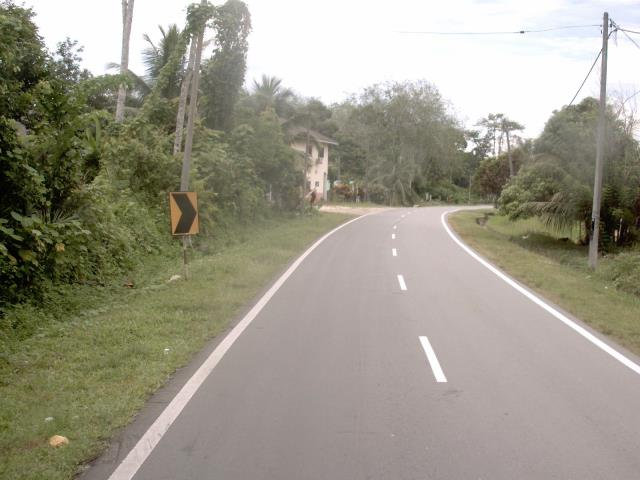traffic_sign: (161, 183, 208, 243)
